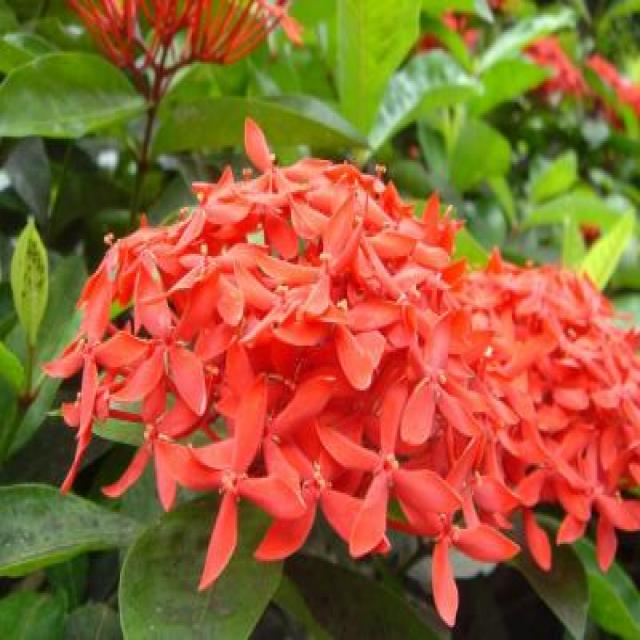Chinese-Ixora: (72, 147, 638, 568), (74, 0, 306, 109), (522, 28, 586, 102), (589, 53, 640, 130)
